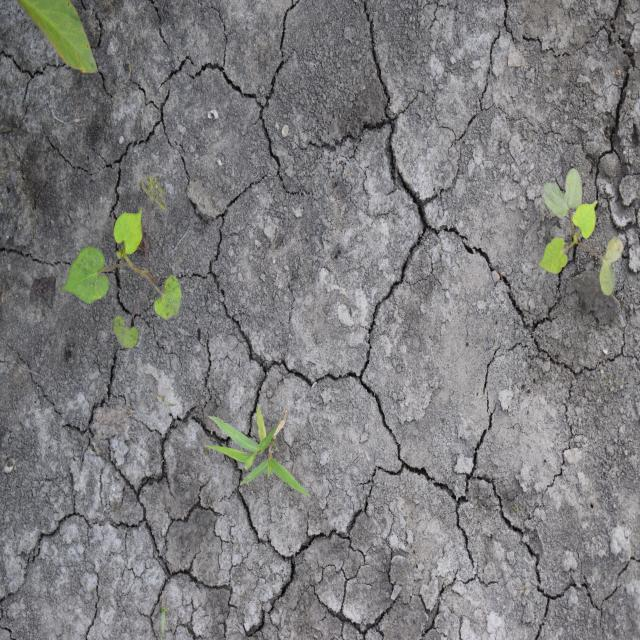MorningGlory: (59, 174, 183, 352), (536, 166, 624, 298)
